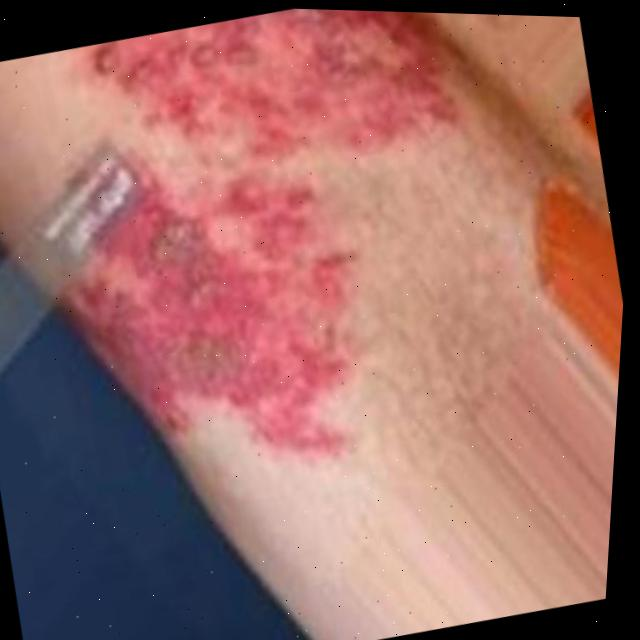Shingles: (100, 179, 357, 466), (88, 3, 437, 161)
